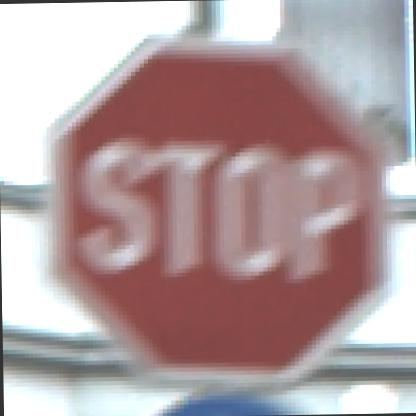stop: (34, 24, 401, 398)
